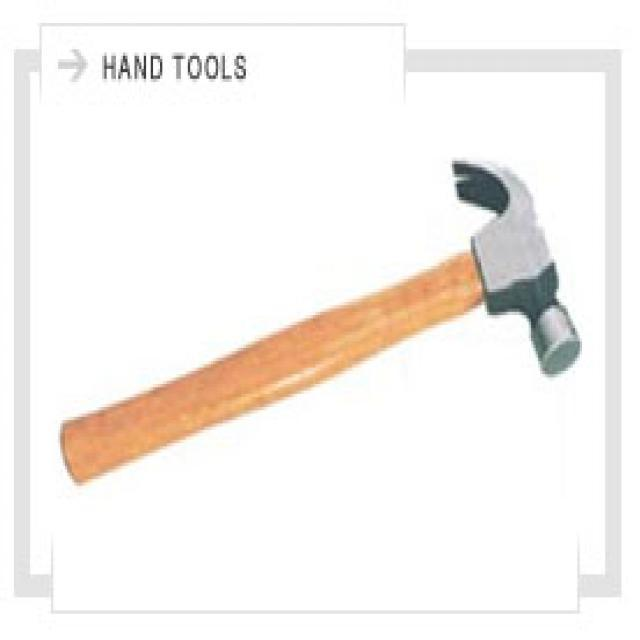hammer: (42, 130, 589, 514)
